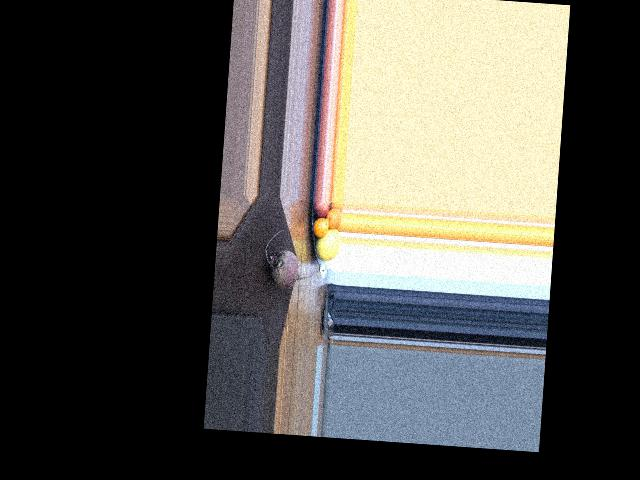beet: (262, 228, 317, 291)
